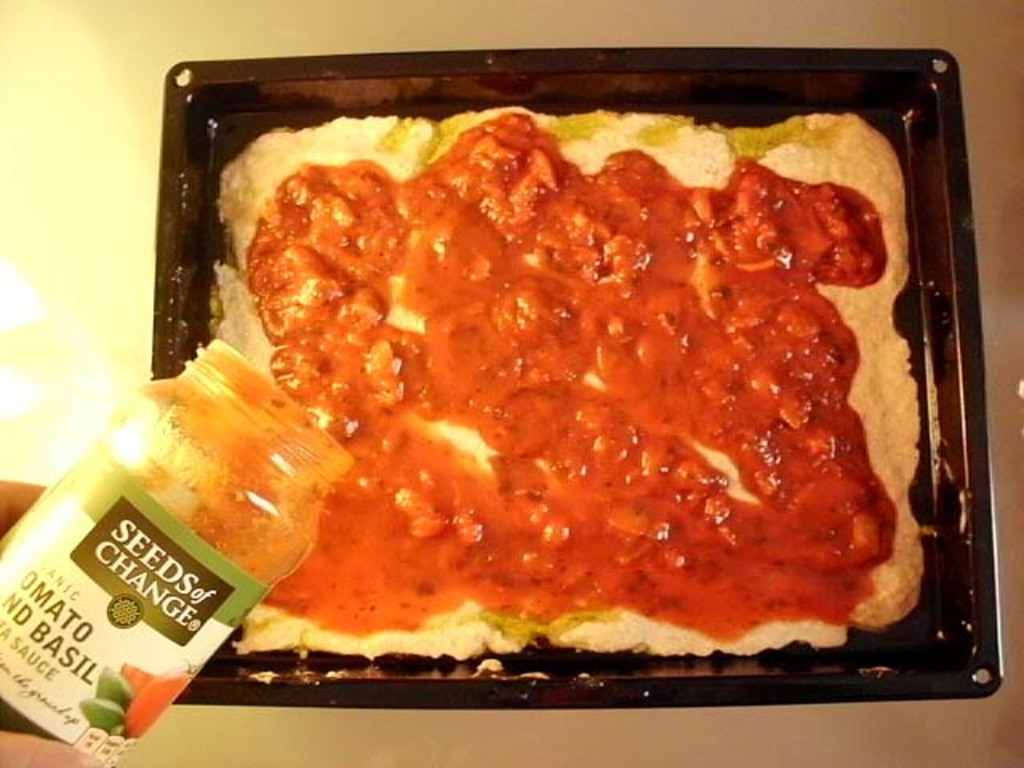pizza: (82, 62, 1022, 691)
